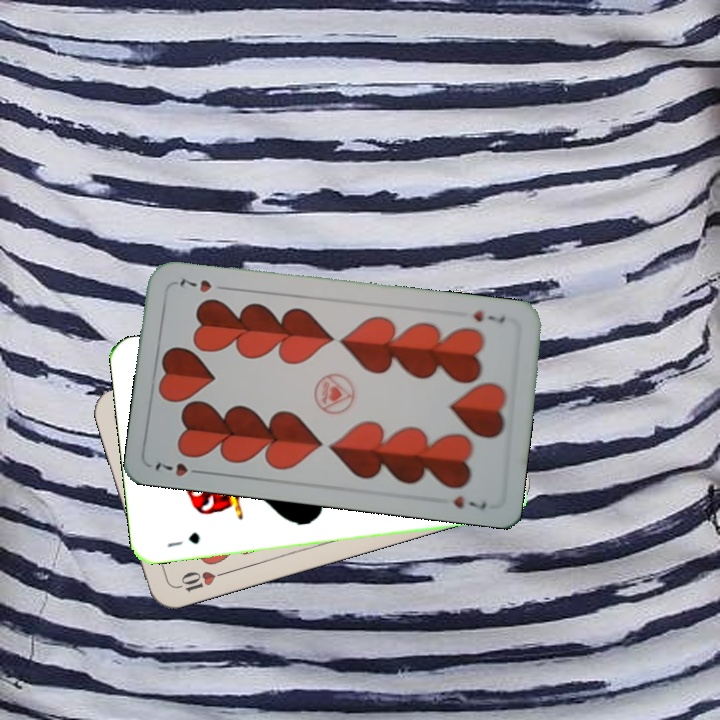GU: (162, 528, 202, 550)
H10: (170, 567, 228, 595)
H7: (151, 458, 208, 479), (469, 306, 507, 326)
